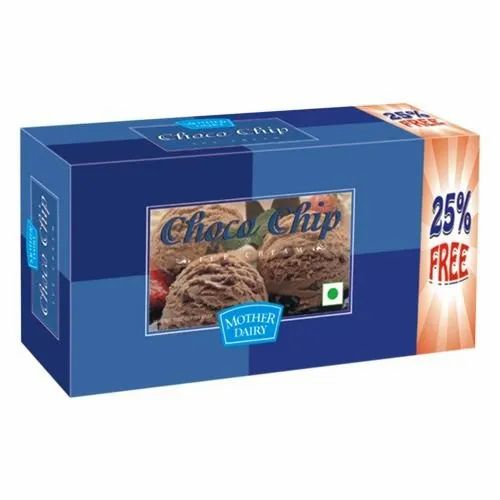Mother_Dairy: (214, 297, 287, 350)
